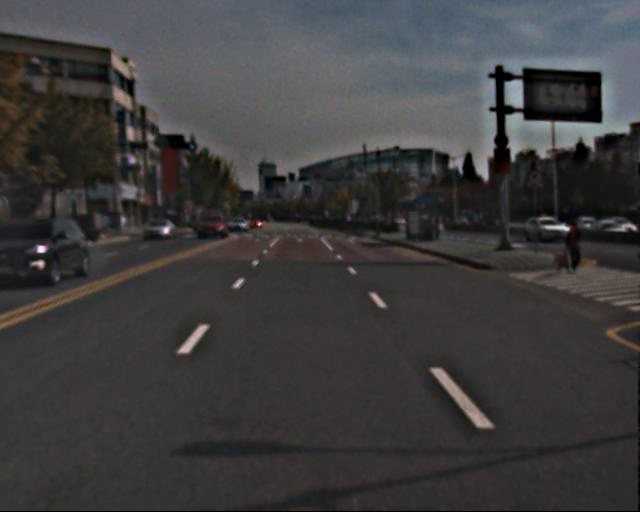person: (560, 220, 585, 279)
